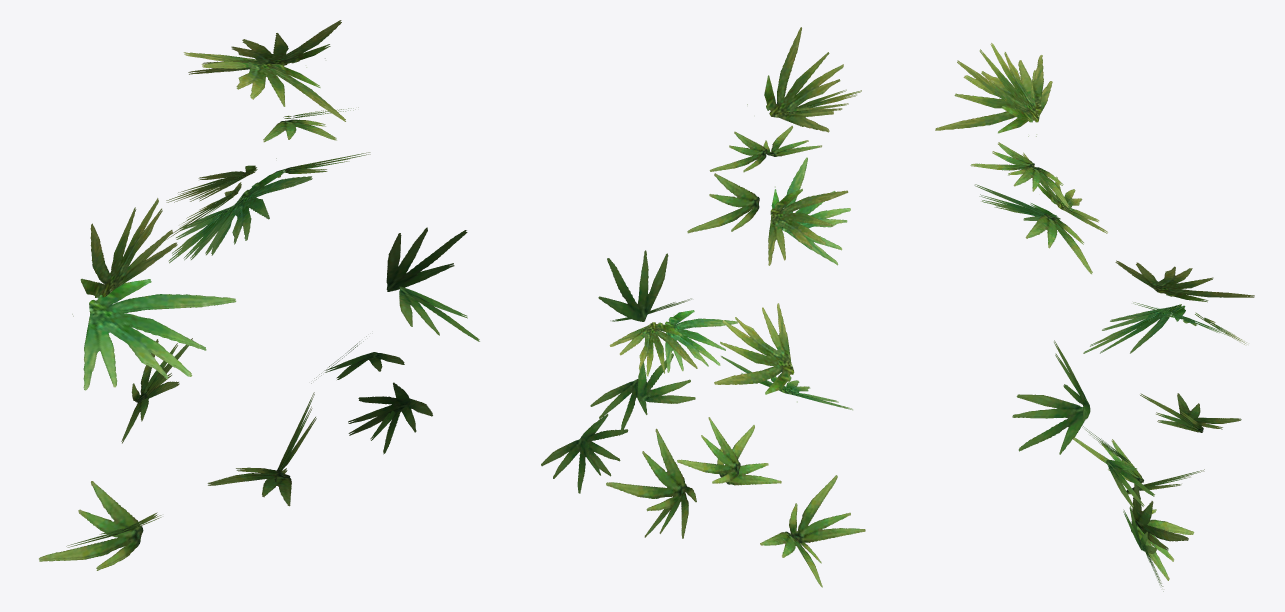
The model's file is Area_13_15.fbx.
3 views of the same model, side by side, from view 1: azimuth 30°, elevation 25°; view 2: azimuth 150°, elevation 25°; view 3: azimuth 270°, elevation 25° (orthographic). The views are drawn at different scales.
Visible parts, largest first — view 1: Area_13_15; view 2: Area_13_15; view 3: Area_13_15.
Part boxes in pixels (x1,y1,x2,y2): Area_13_15: (39,20,479,570); Area_13_15: (541,27,865,587); Area_13_15: (935,43,1254,591).
Bounding box in the file's own units: 546 × 802 × 507.
